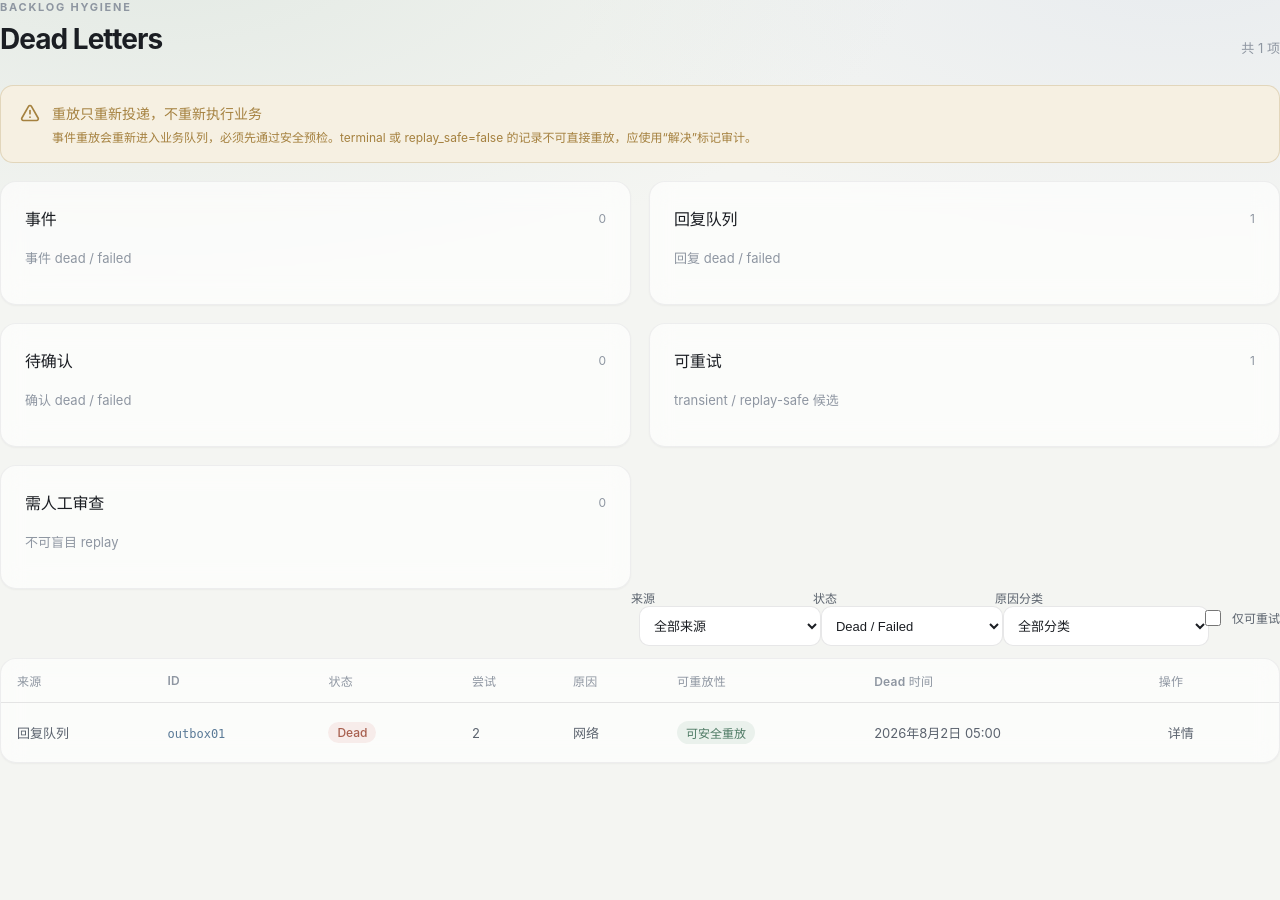
Scenario: DeadLettersPage › keeps replay disabled while the reason is shorter than 3 characters
Click the button "详情" at (1181, 732), box [1159, 717, 1203, 748]
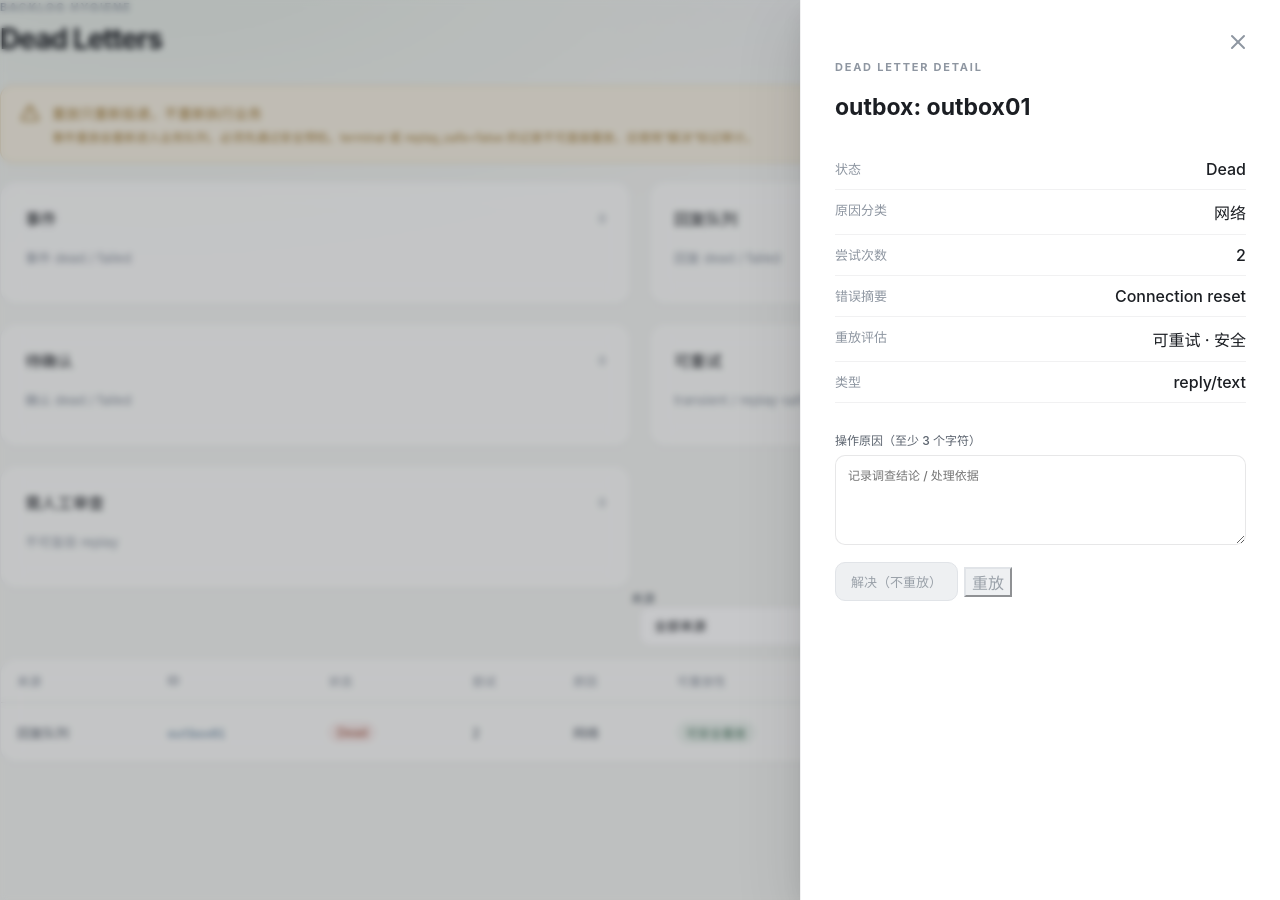
Check: the button "重放" is disabled, box [964, 567, 1012, 597]
Type "ab" into the text box with placeholder "记录调查结论 / 处理依据" at (1040, 500), box [835, 455, 1246, 545]
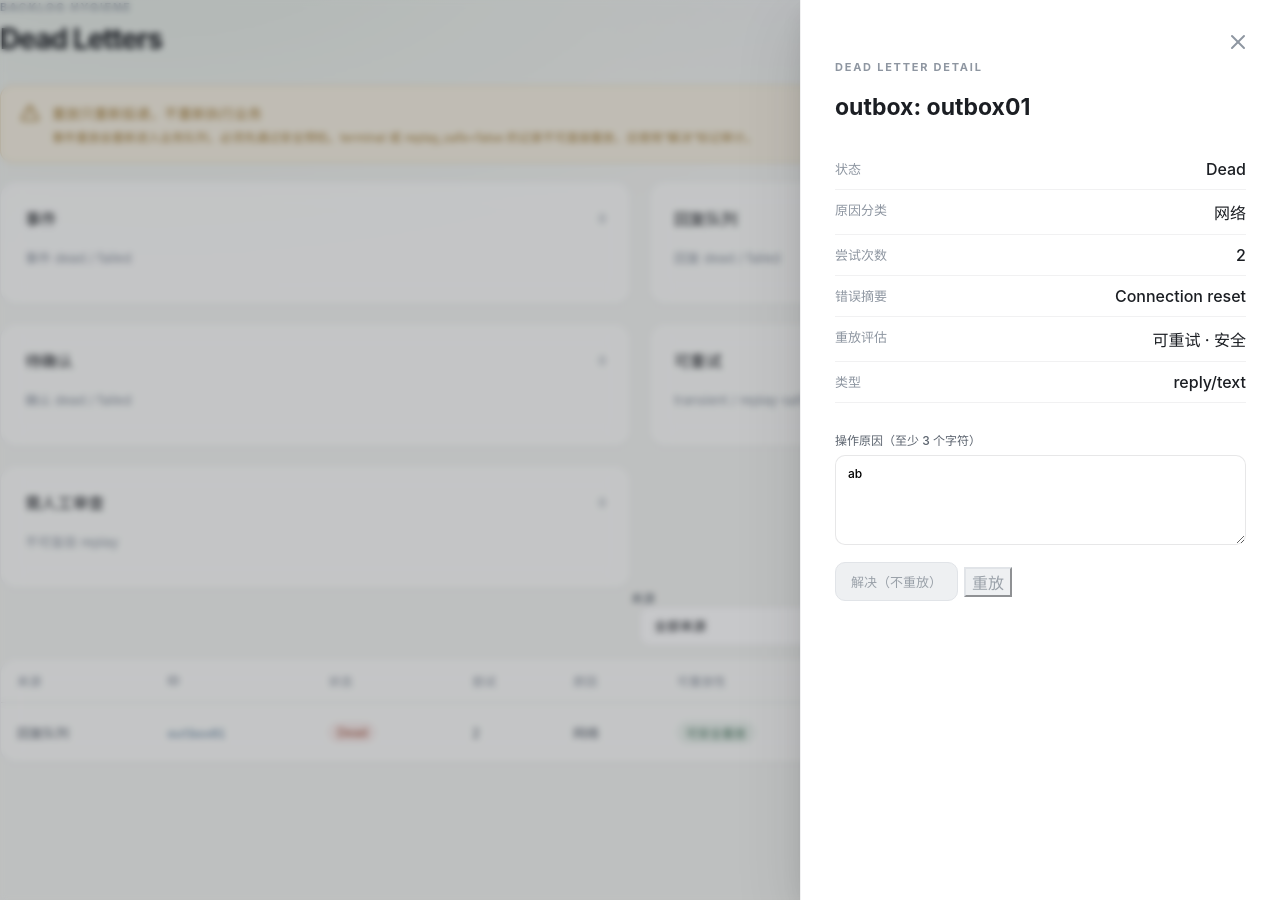
Check: the button "重放" is disabled, box [964, 567, 1012, 597]
Replace the text in the text box with placeholder "记录调查结论 / 处理依据" with "transient, retry now" at (1040, 500), box [835, 455, 1246, 545]
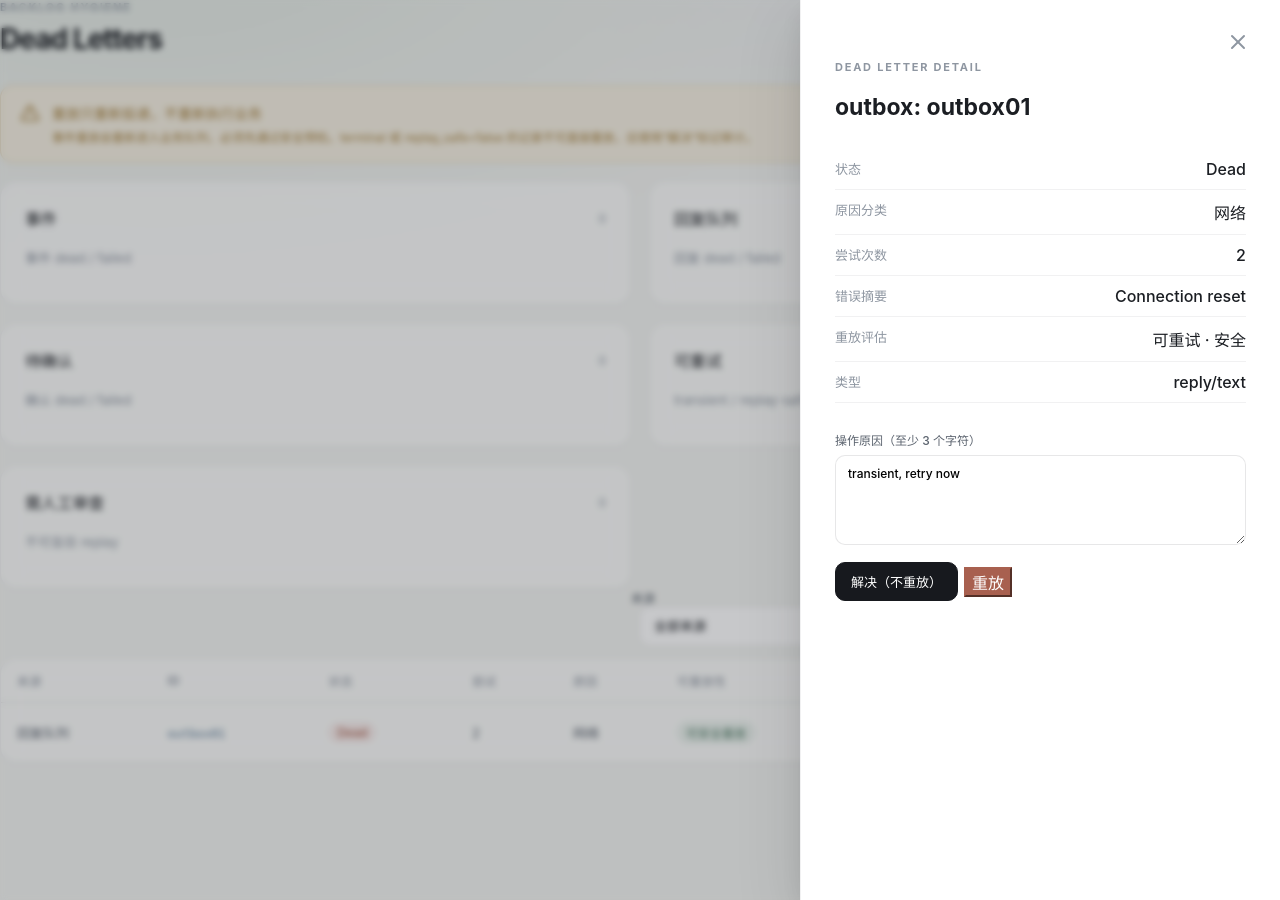
Check: the button "重放" is enabled, box [964, 567, 1012, 597]
